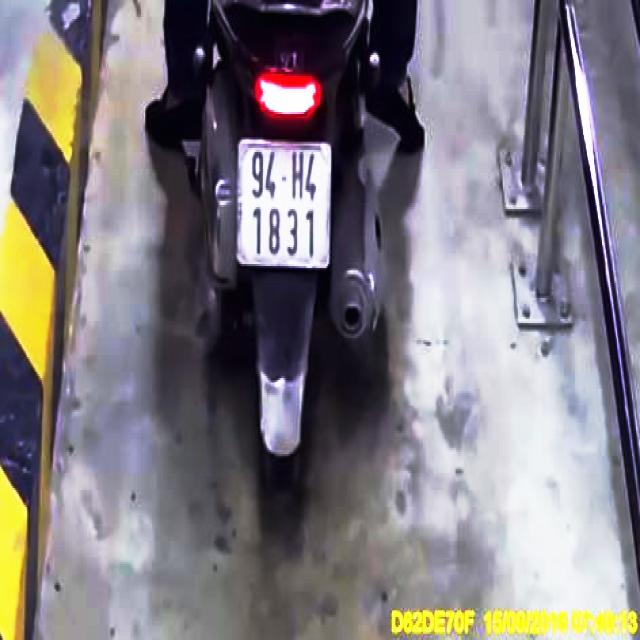license_plate: (236, 142, 331, 268)
